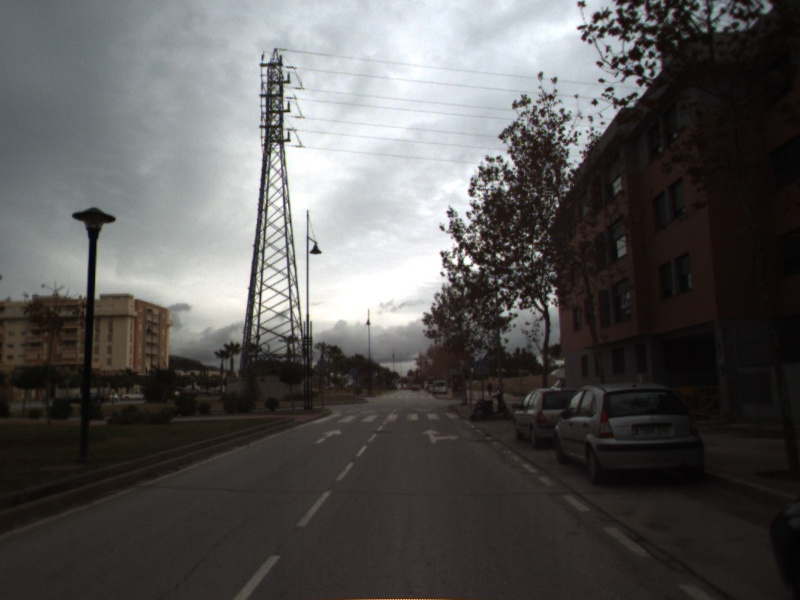STRAIGHT: (313, 426, 344, 446)
STRAIGHT_RIGHT: (419, 427, 460, 445)
